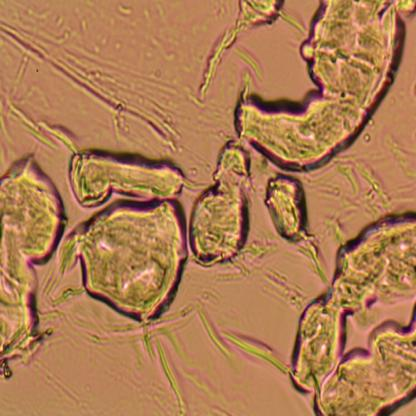Normal: (223, 1, 416, 415), (0, 125, 311, 337)
